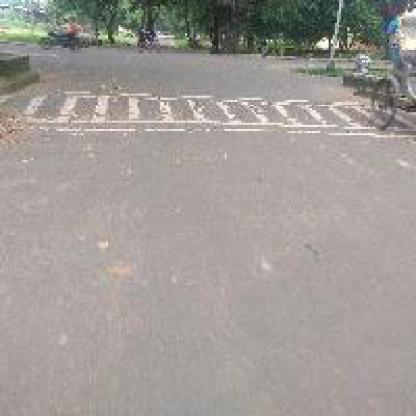Speed Bump: (14, 81, 362, 144)
